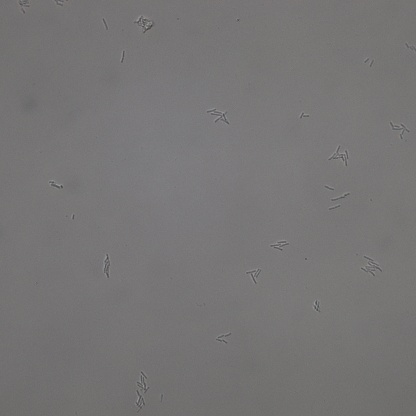R(colony): (205, 106, 231, 125), (361, 255, 383, 277), (328, 146, 351, 166), (390, 122, 411, 141), (131, 391, 146, 413), (136, 370, 150, 391), (246, 267, 262, 285), (215, 331, 232, 344), (271, 240, 289, 251)
